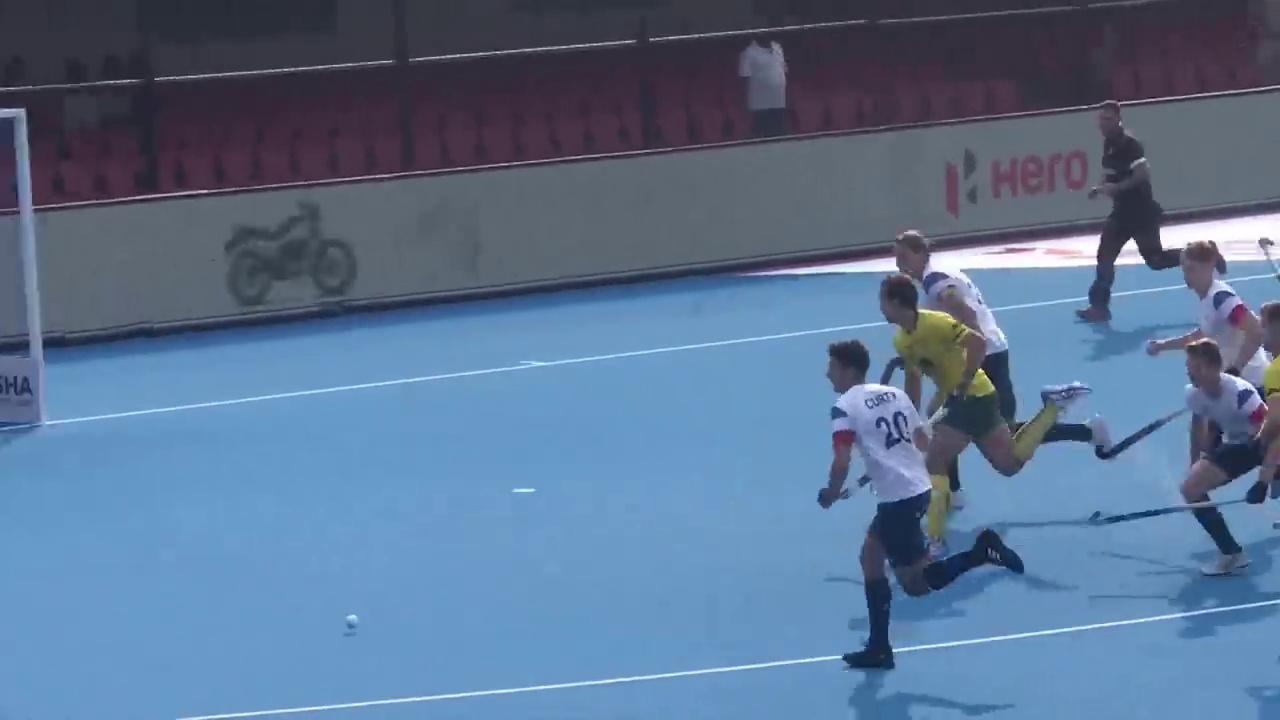ball: (335, 613, 374, 646)
